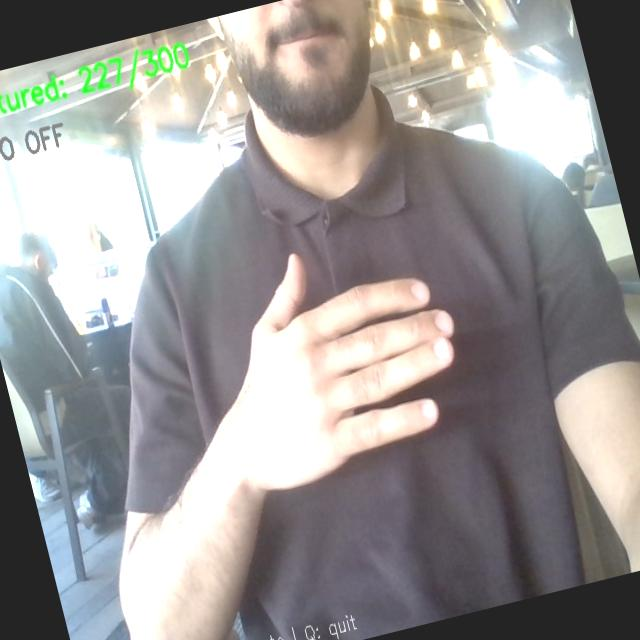Hand: (221, 255, 453, 490)
